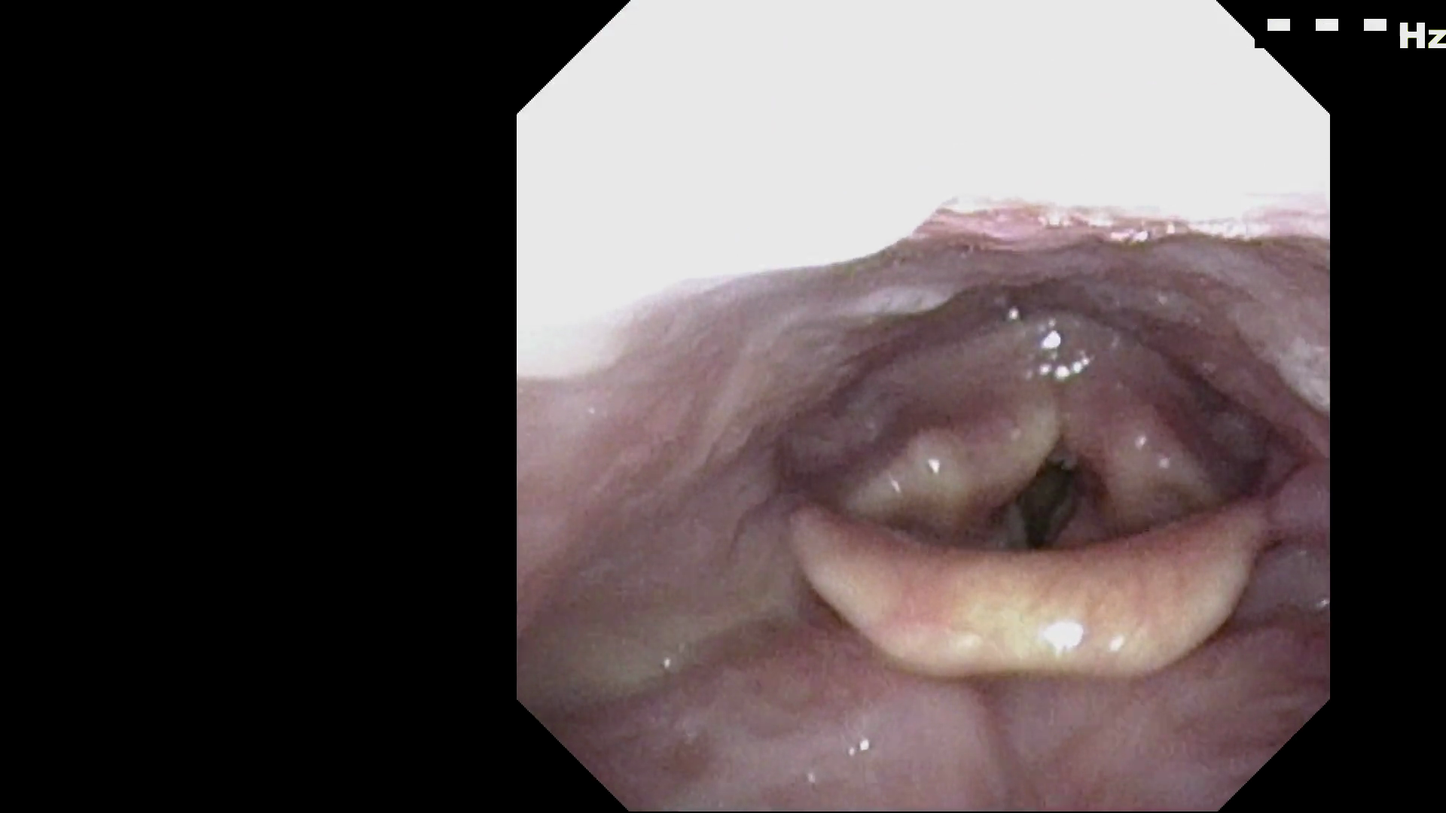epiglottis: (780, 460, 1305, 699)
trachea: (975, 404, 1122, 558)
